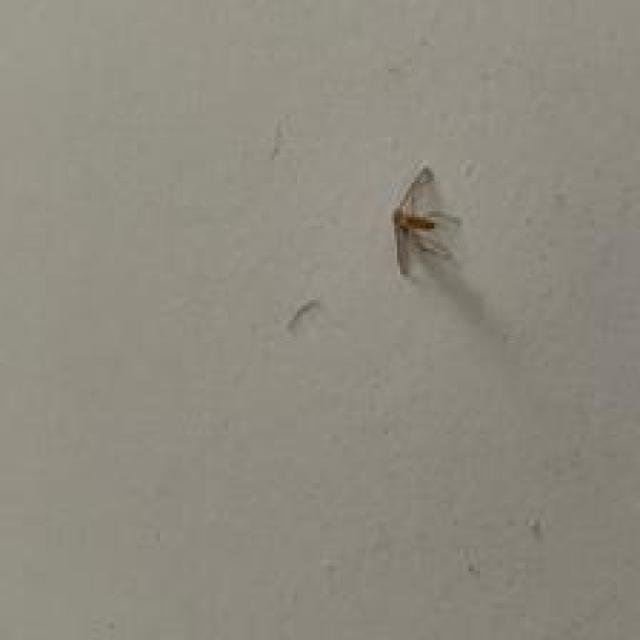Culex: (390, 164, 461, 279)
